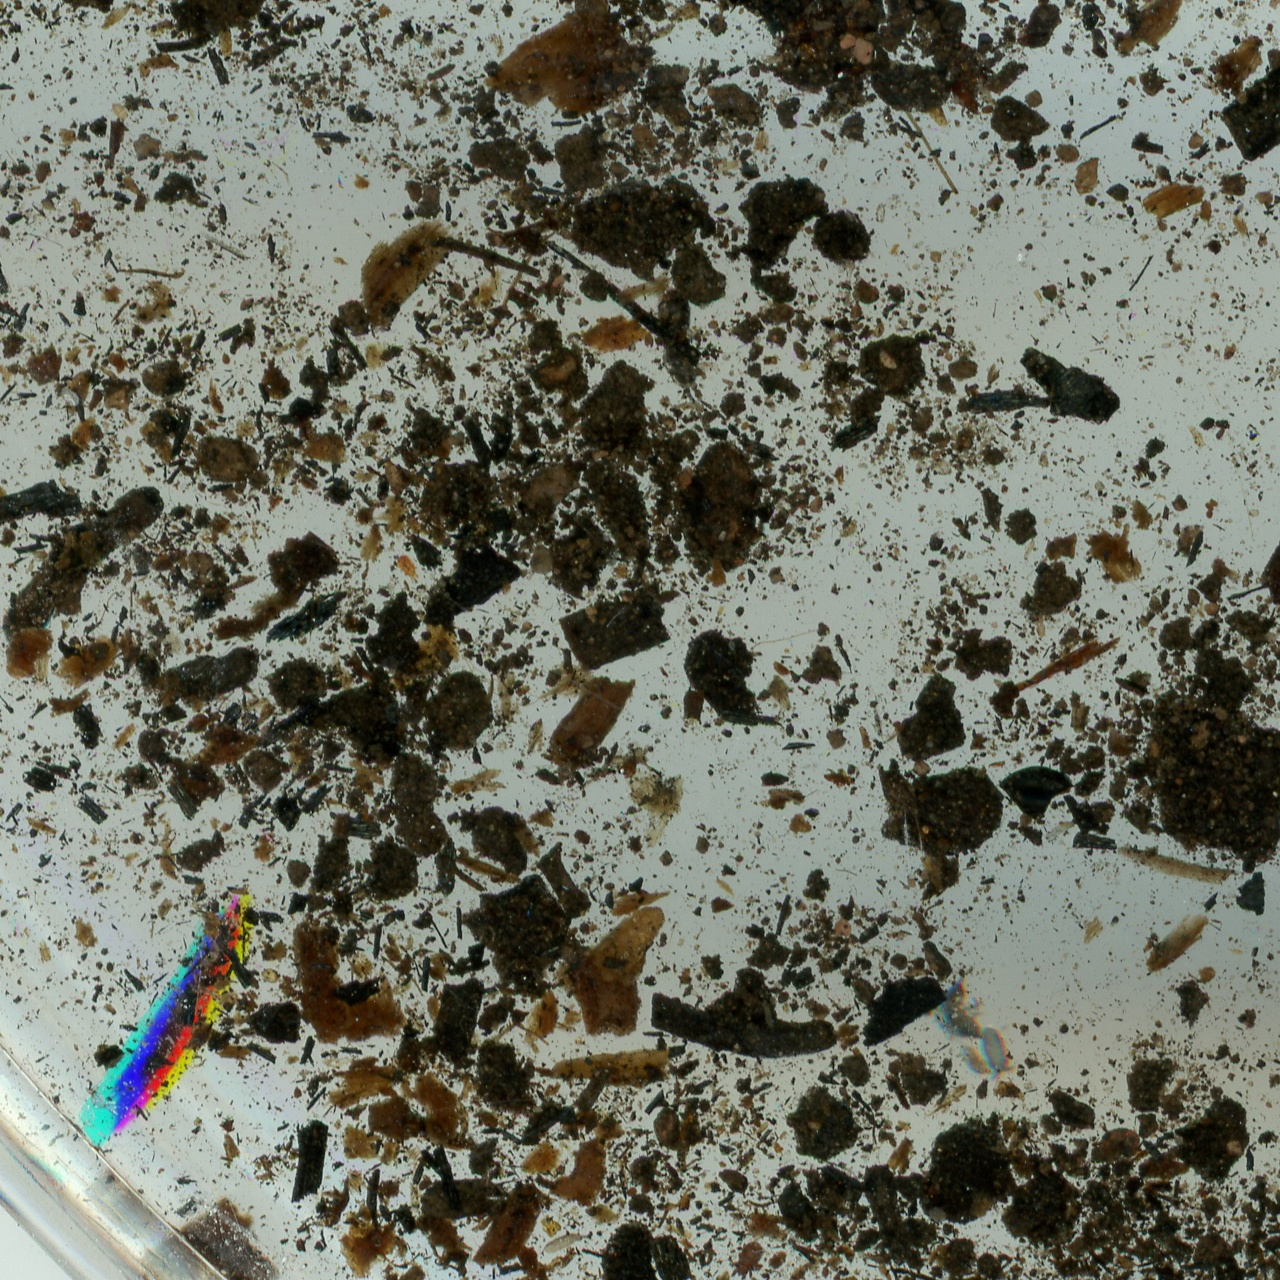arthropod: (938, 972, 983, 1047), (971, 1020, 1020, 1085), (533, 1221, 594, 1264), (726, 1233, 769, 1280), (959, 1040, 994, 1080), (395, 554, 422, 585)
